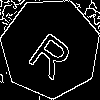R: (25, 23, 81, 82)
